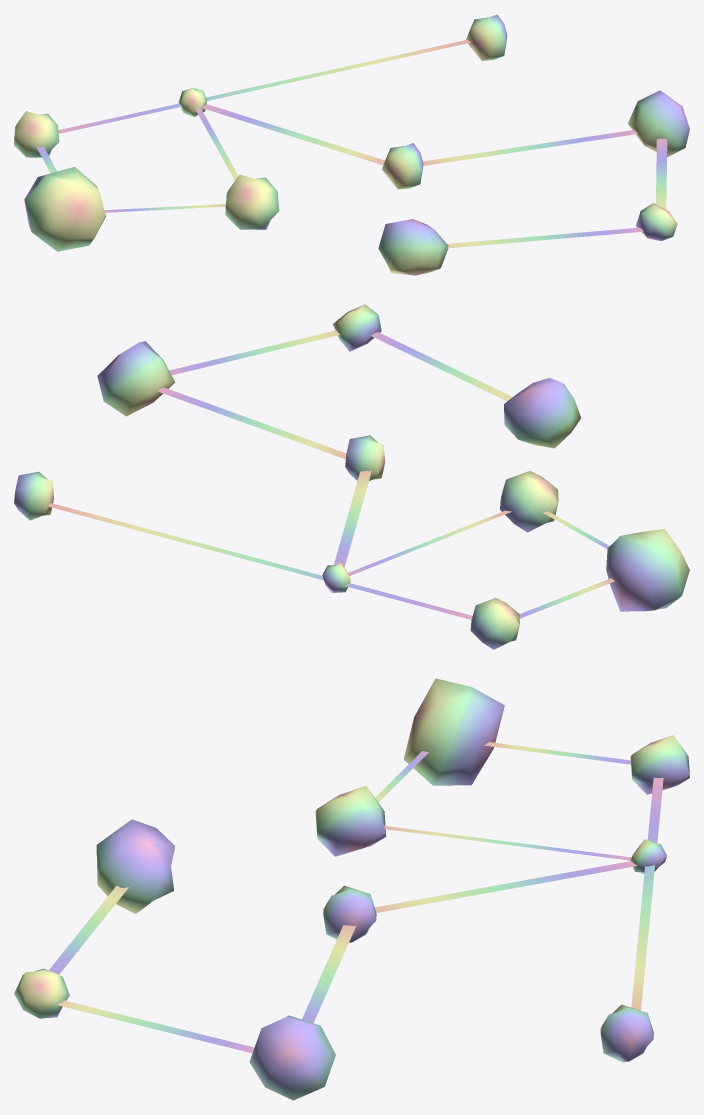
The model's file is ChomSdt.fbx.
3 views of the same model, one above another, from view 1: azimuth 30°, elevation 25°; view 2: azimuth 150°, elevation 25°; view 3: azimuth 270°, elevation 25° (orthographic). The views are drawn at different scales.
Visible parts, largest first — view 1: ChomSdt; view 2: ChomSdt; view 3: ChomSdt.
Part boxes in pixels (box(x1,y1,x2,y2)): ChomSdt: box(14, 14, 689, 275); ChomSdt: box(14, 304, 689, 649); ChomSdt: box(14, 678, 689, 1100).
Size of the model in its own units: 3.53 by 2.77 by 0.41.
